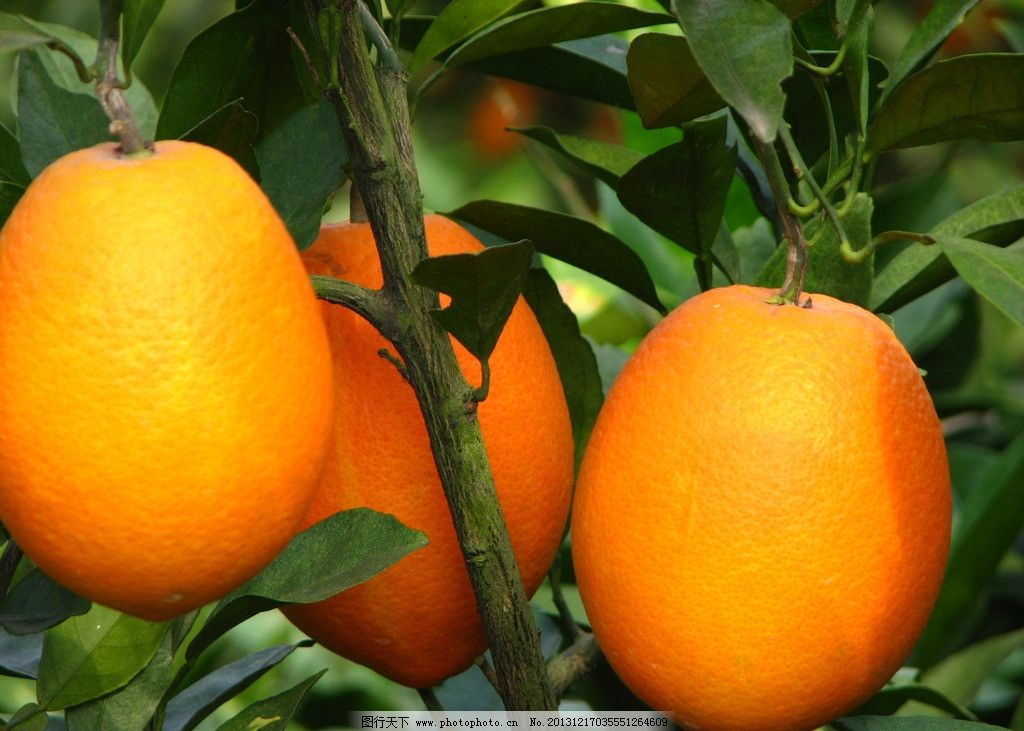orange: (571, 283, 950, 731), (1, 140, 339, 619), (240, 201, 576, 682)
